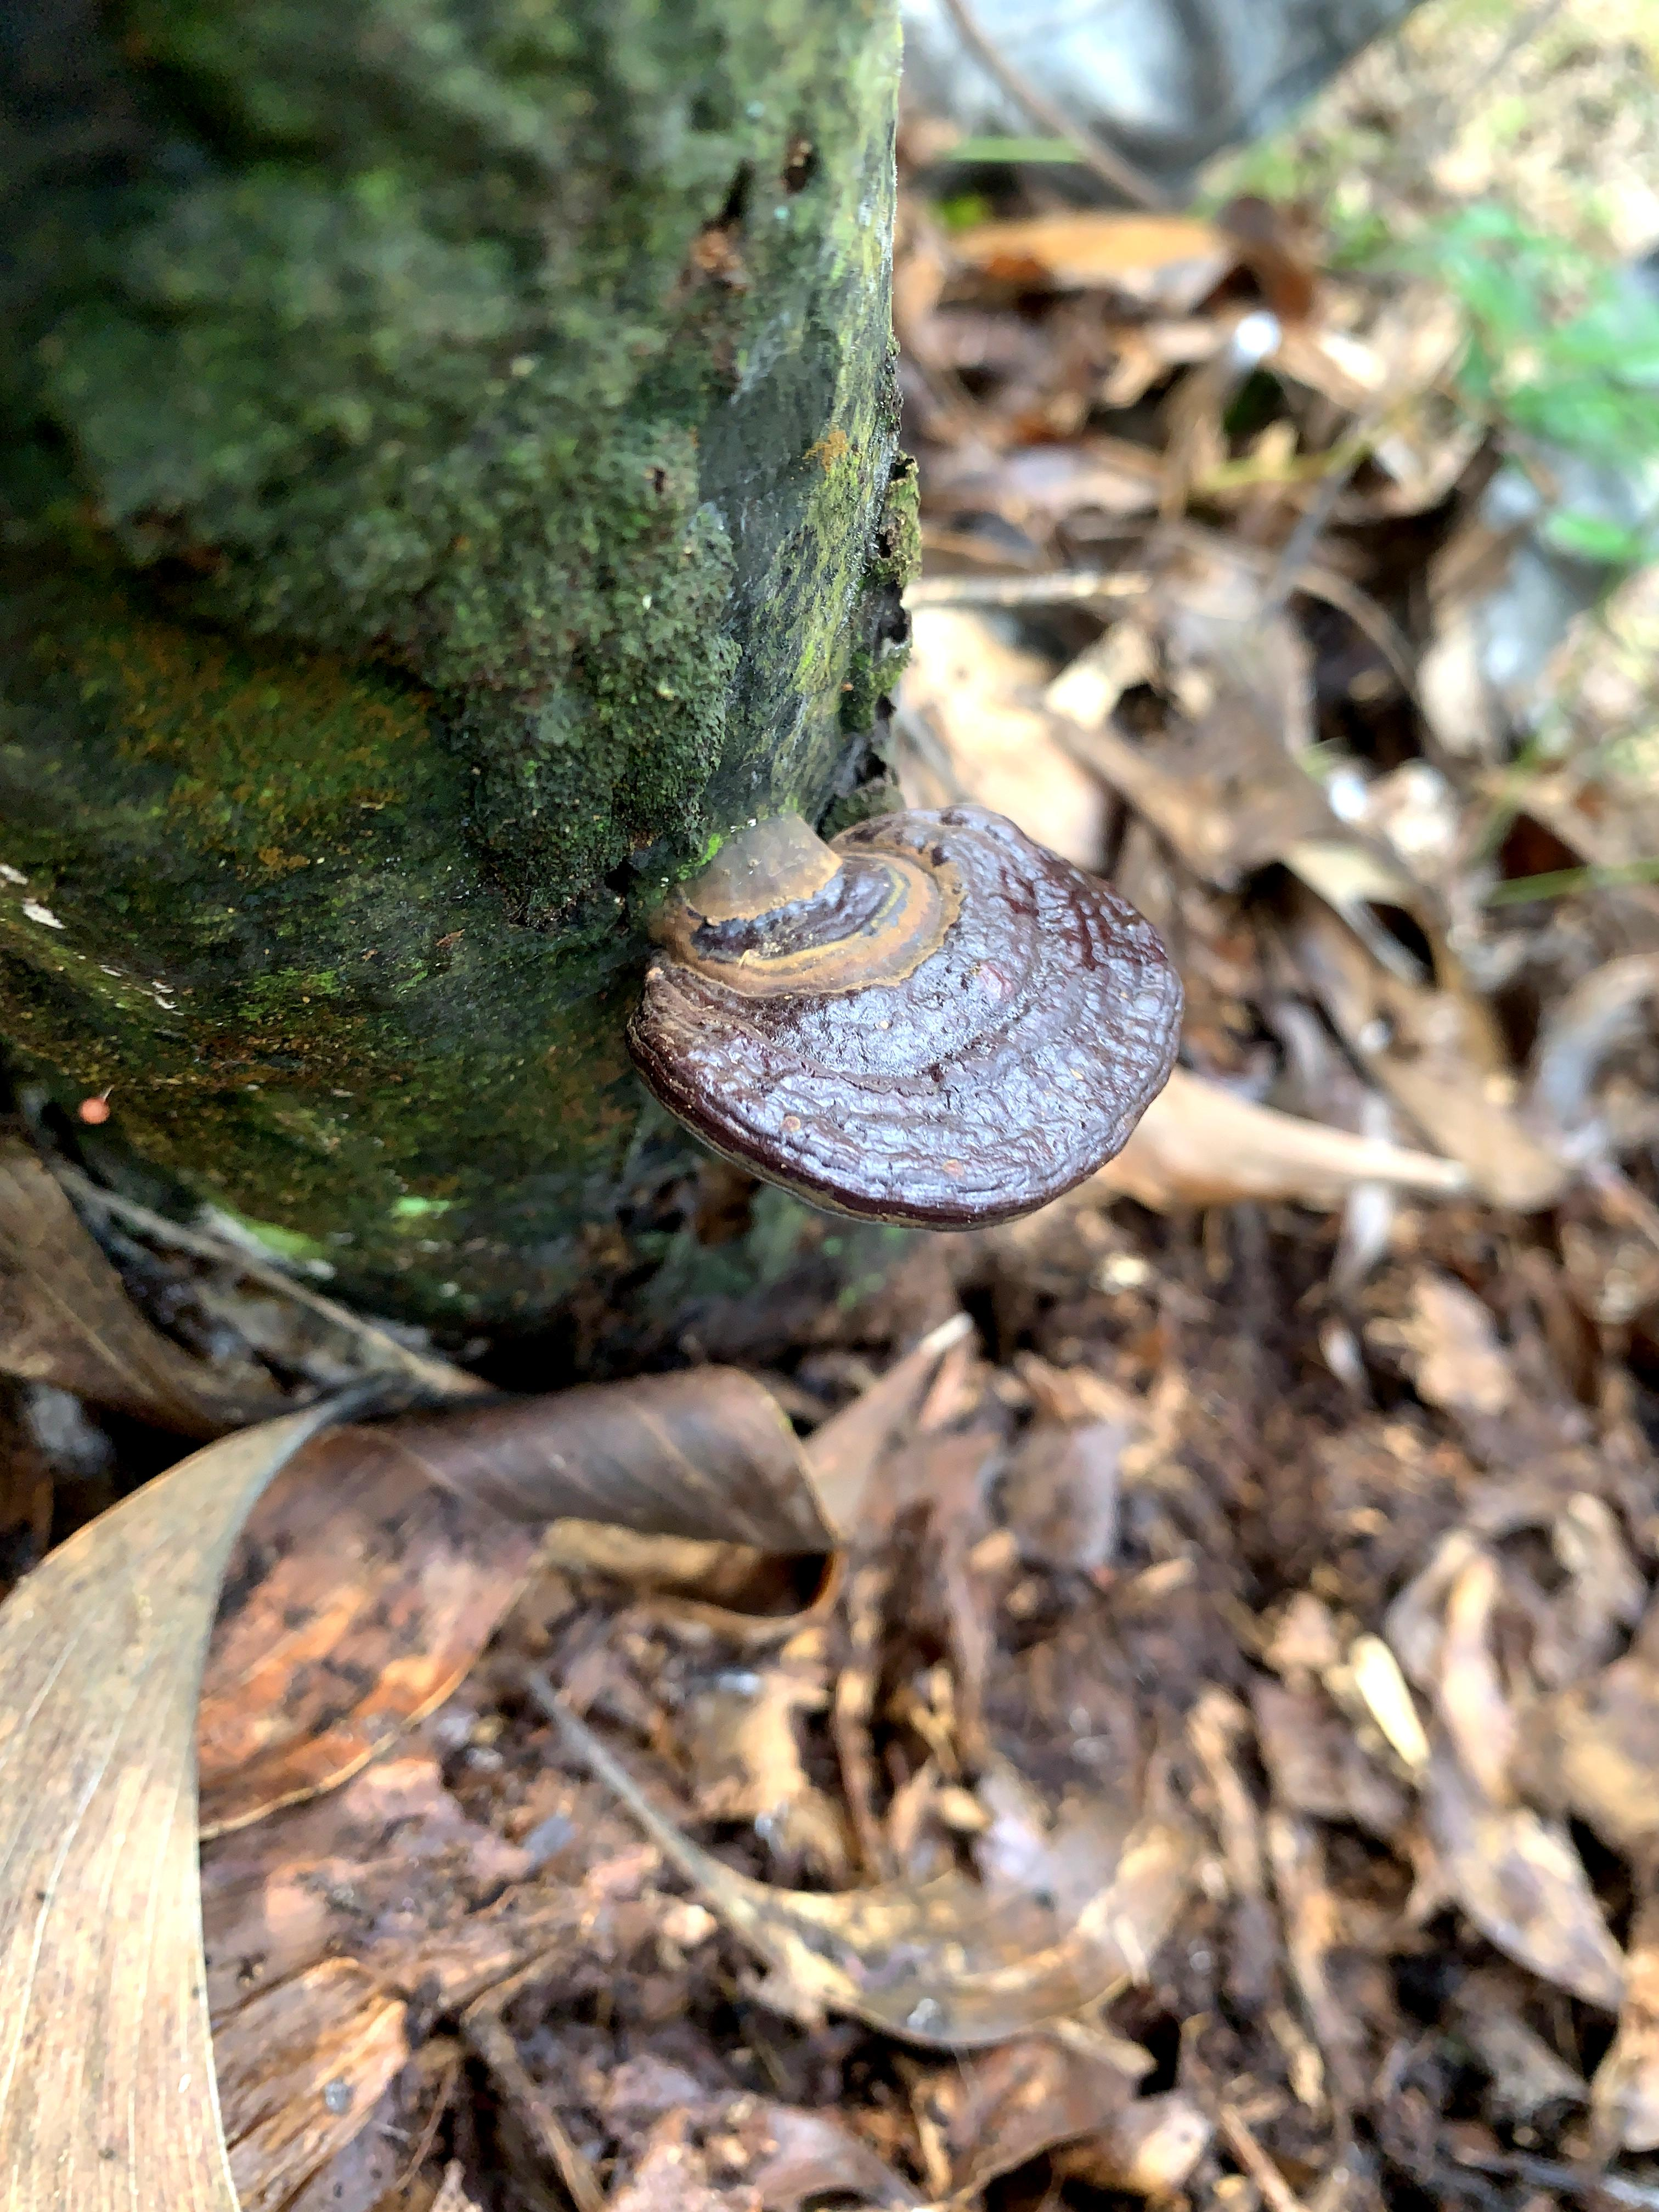Ganoderma - Fruit Body: (587, 742, 1220, 1254)
